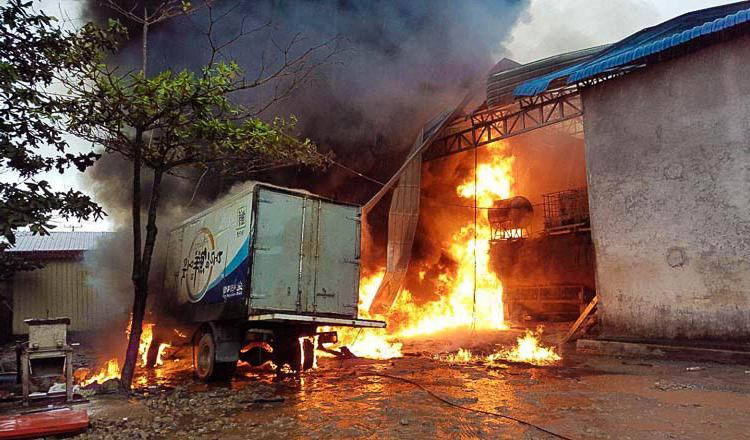fire: (316, 114, 561, 372), (124, 310, 173, 372), (77, 357, 131, 387)
